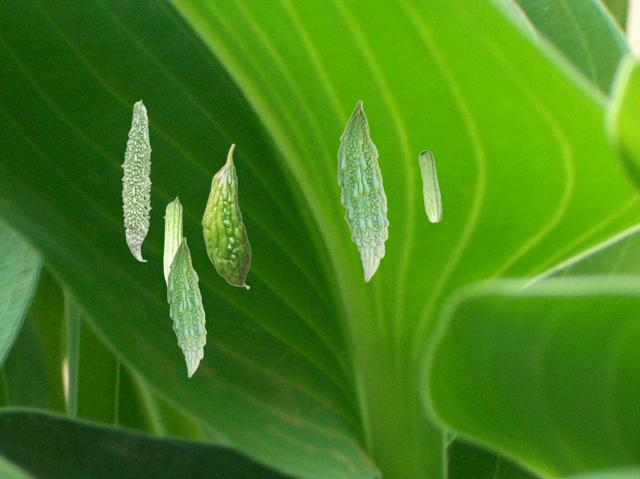ampalaya: (337, 99, 389, 282), (201, 143, 251, 289), (166, 237, 207, 378), (120, 99, 152, 262), (418, 150, 443, 223), (163, 195, 183, 286)
